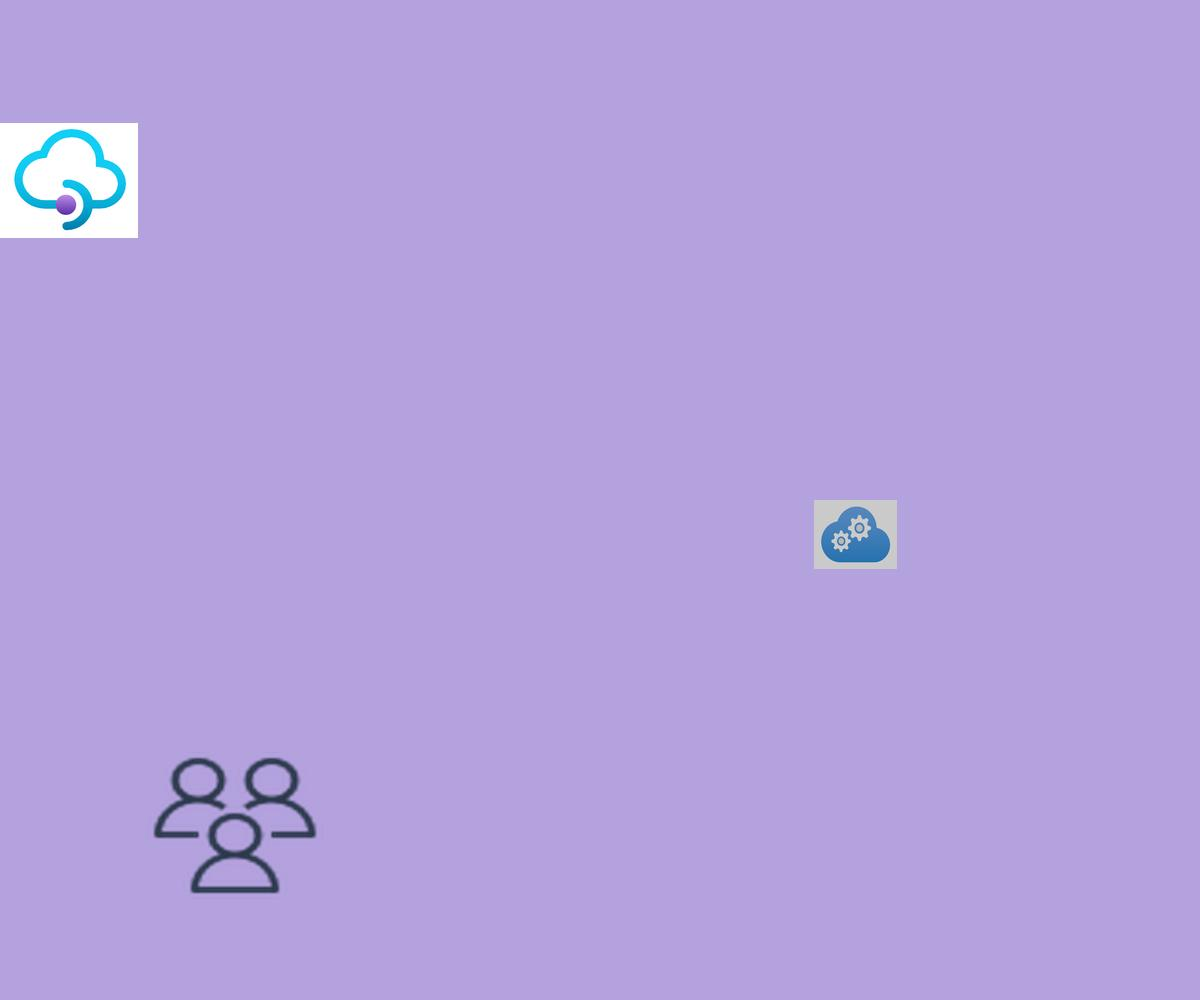AWS-Res_Users: (147, 752, 323, 899)
Azure_api_gateway: (0, 123, 138, 238)
Azure_cloud_services: (814, 500, 897, 569)
